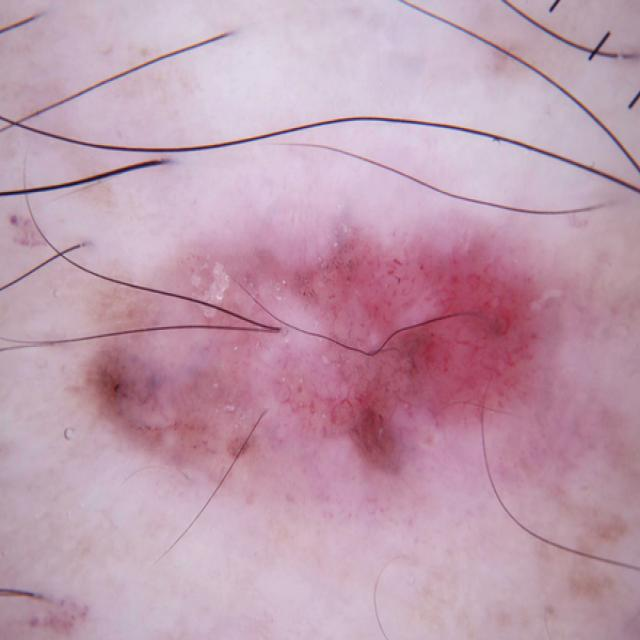Skin-Cancer Basal cell carcinoma: (43, 52, 640, 637)
